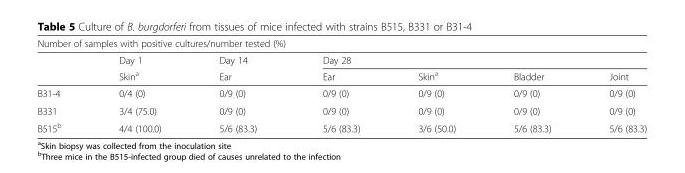table: (36, 37, 646, 133)
table column: (89, 37, 189, 133), (189, 37, 289, 133), (289, 37, 388, 133), (388, 37, 484, 133), (484, 37, 579, 133), (579, 37, 646, 133), (36, 37, 89, 133)
table column header: (36, 37, 646, 84)
table row: (36, 67, 646, 84), (36, 84, 646, 101), (36, 101, 646, 118), (36, 51, 646, 67), (36, 118, 646, 133), (36, 37, 646, 51)
table spanning cell: (36, 37, 646, 51), (289, 51, 646, 67), (89, 51, 189, 84), (189, 51, 289, 84)
